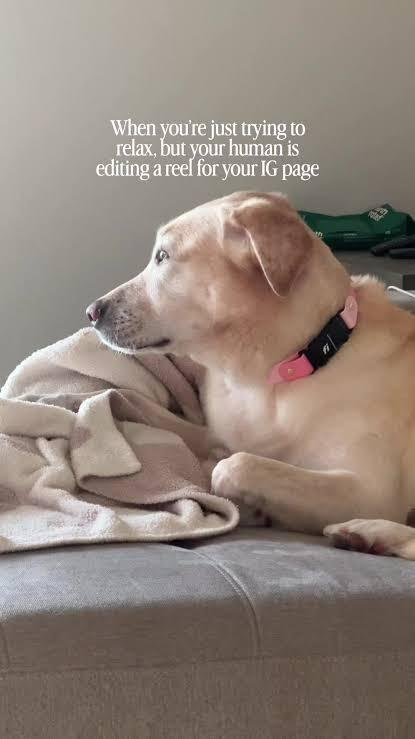adult_dog: (82, 192, 415, 565)
